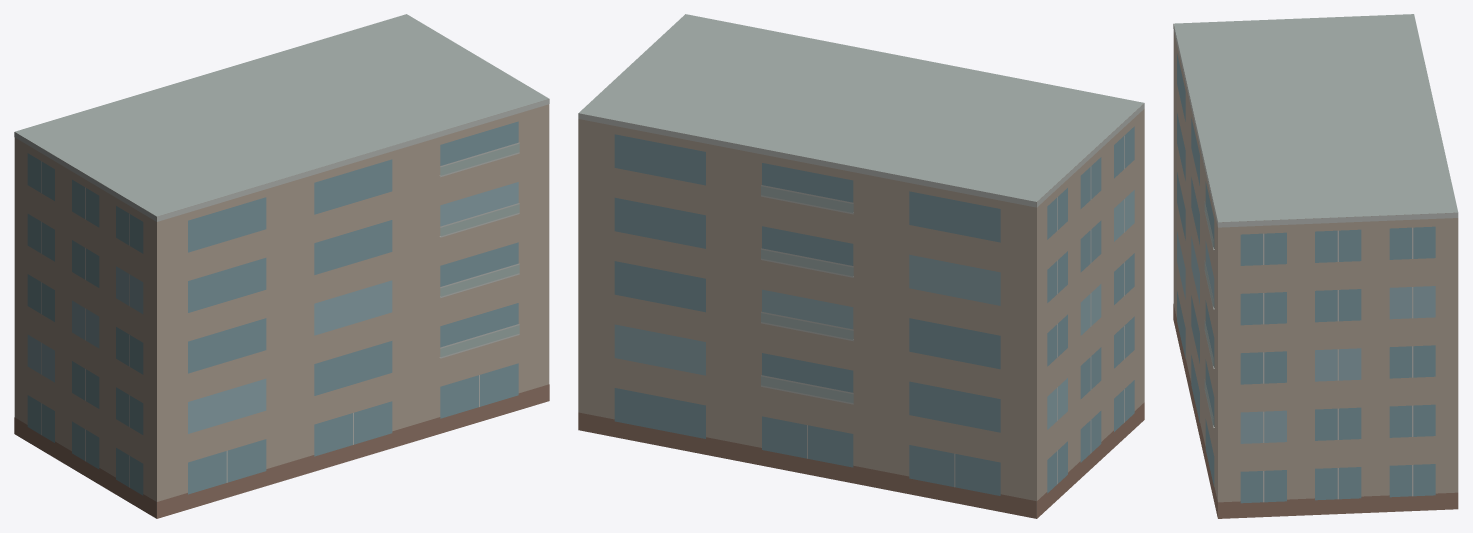
Rendered from survey-upis-32992246.glb.
The picture shows the model from 3 angles, left to right: view 1: azimuth 30°, elevation 25°; view 2: azimuth 150°, elevation 25°; view 3: azimuth 270°, elevation 25°; orthographic projection. The views are drawn at different scales.
Visible parts, largest first — view 1: survey-upis-32992246.tmp; view 2: survey-upis-32992246.tmp; view 3: survey-upis-32992246.tmp.
Boxes of the visible parts, x1=… form: survey-upis-32992246.tmp: x1=14, y1=14, x2=549, y2=518; survey-upis-32992246.tmp: x1=578, y1=14, x2=1144, y2=518; survey-upis-32992246.tmp: x1=1173, y1=14, x2=1458, y2=518.
Size of the model in its own units: 20.42 by 13.55 by 11.8.
